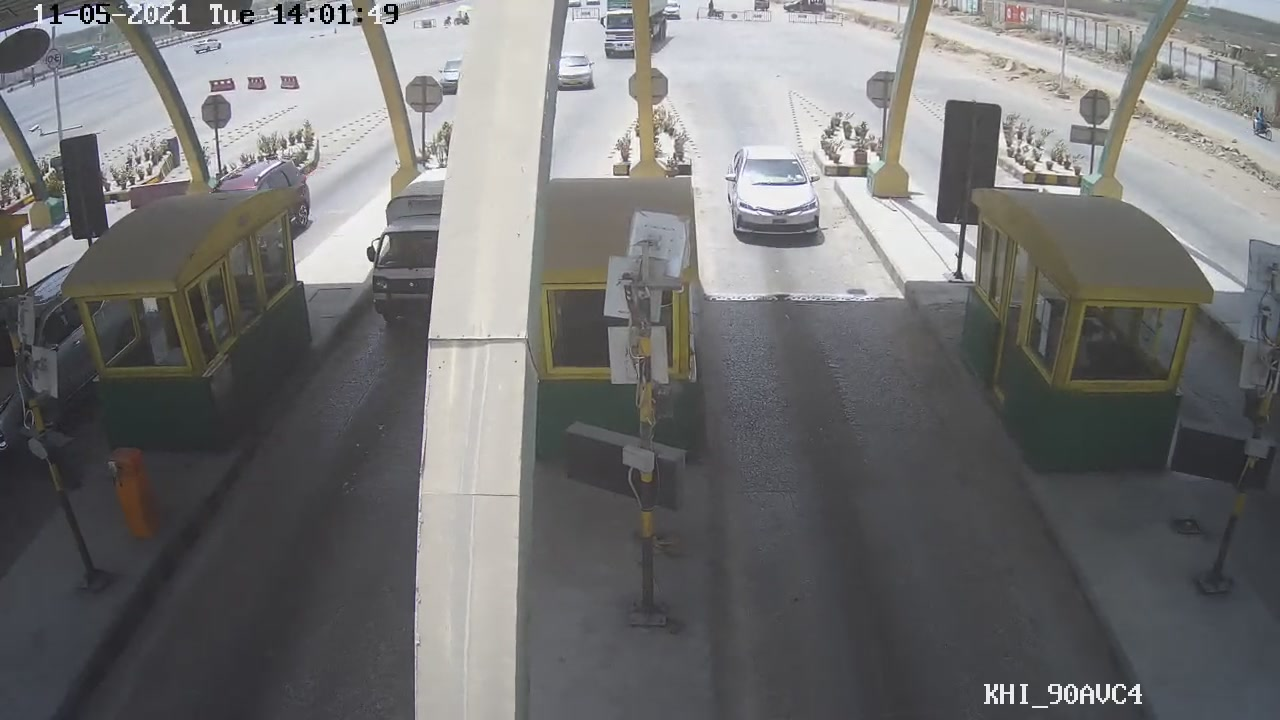F1: (725, 141, 836, 249)
